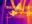Hotspot: (14, 1, 25, 11), (27, 5, 31, 23)
